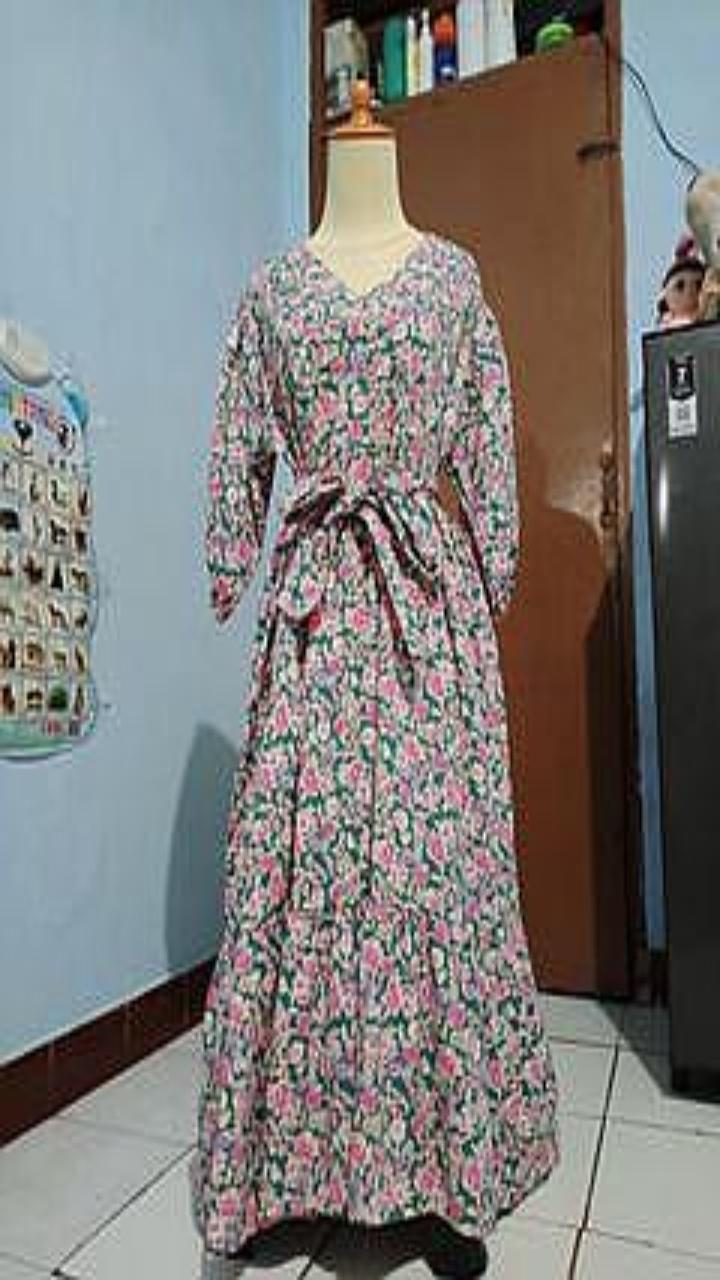Dresses: (192, 233, 557, 1252)
